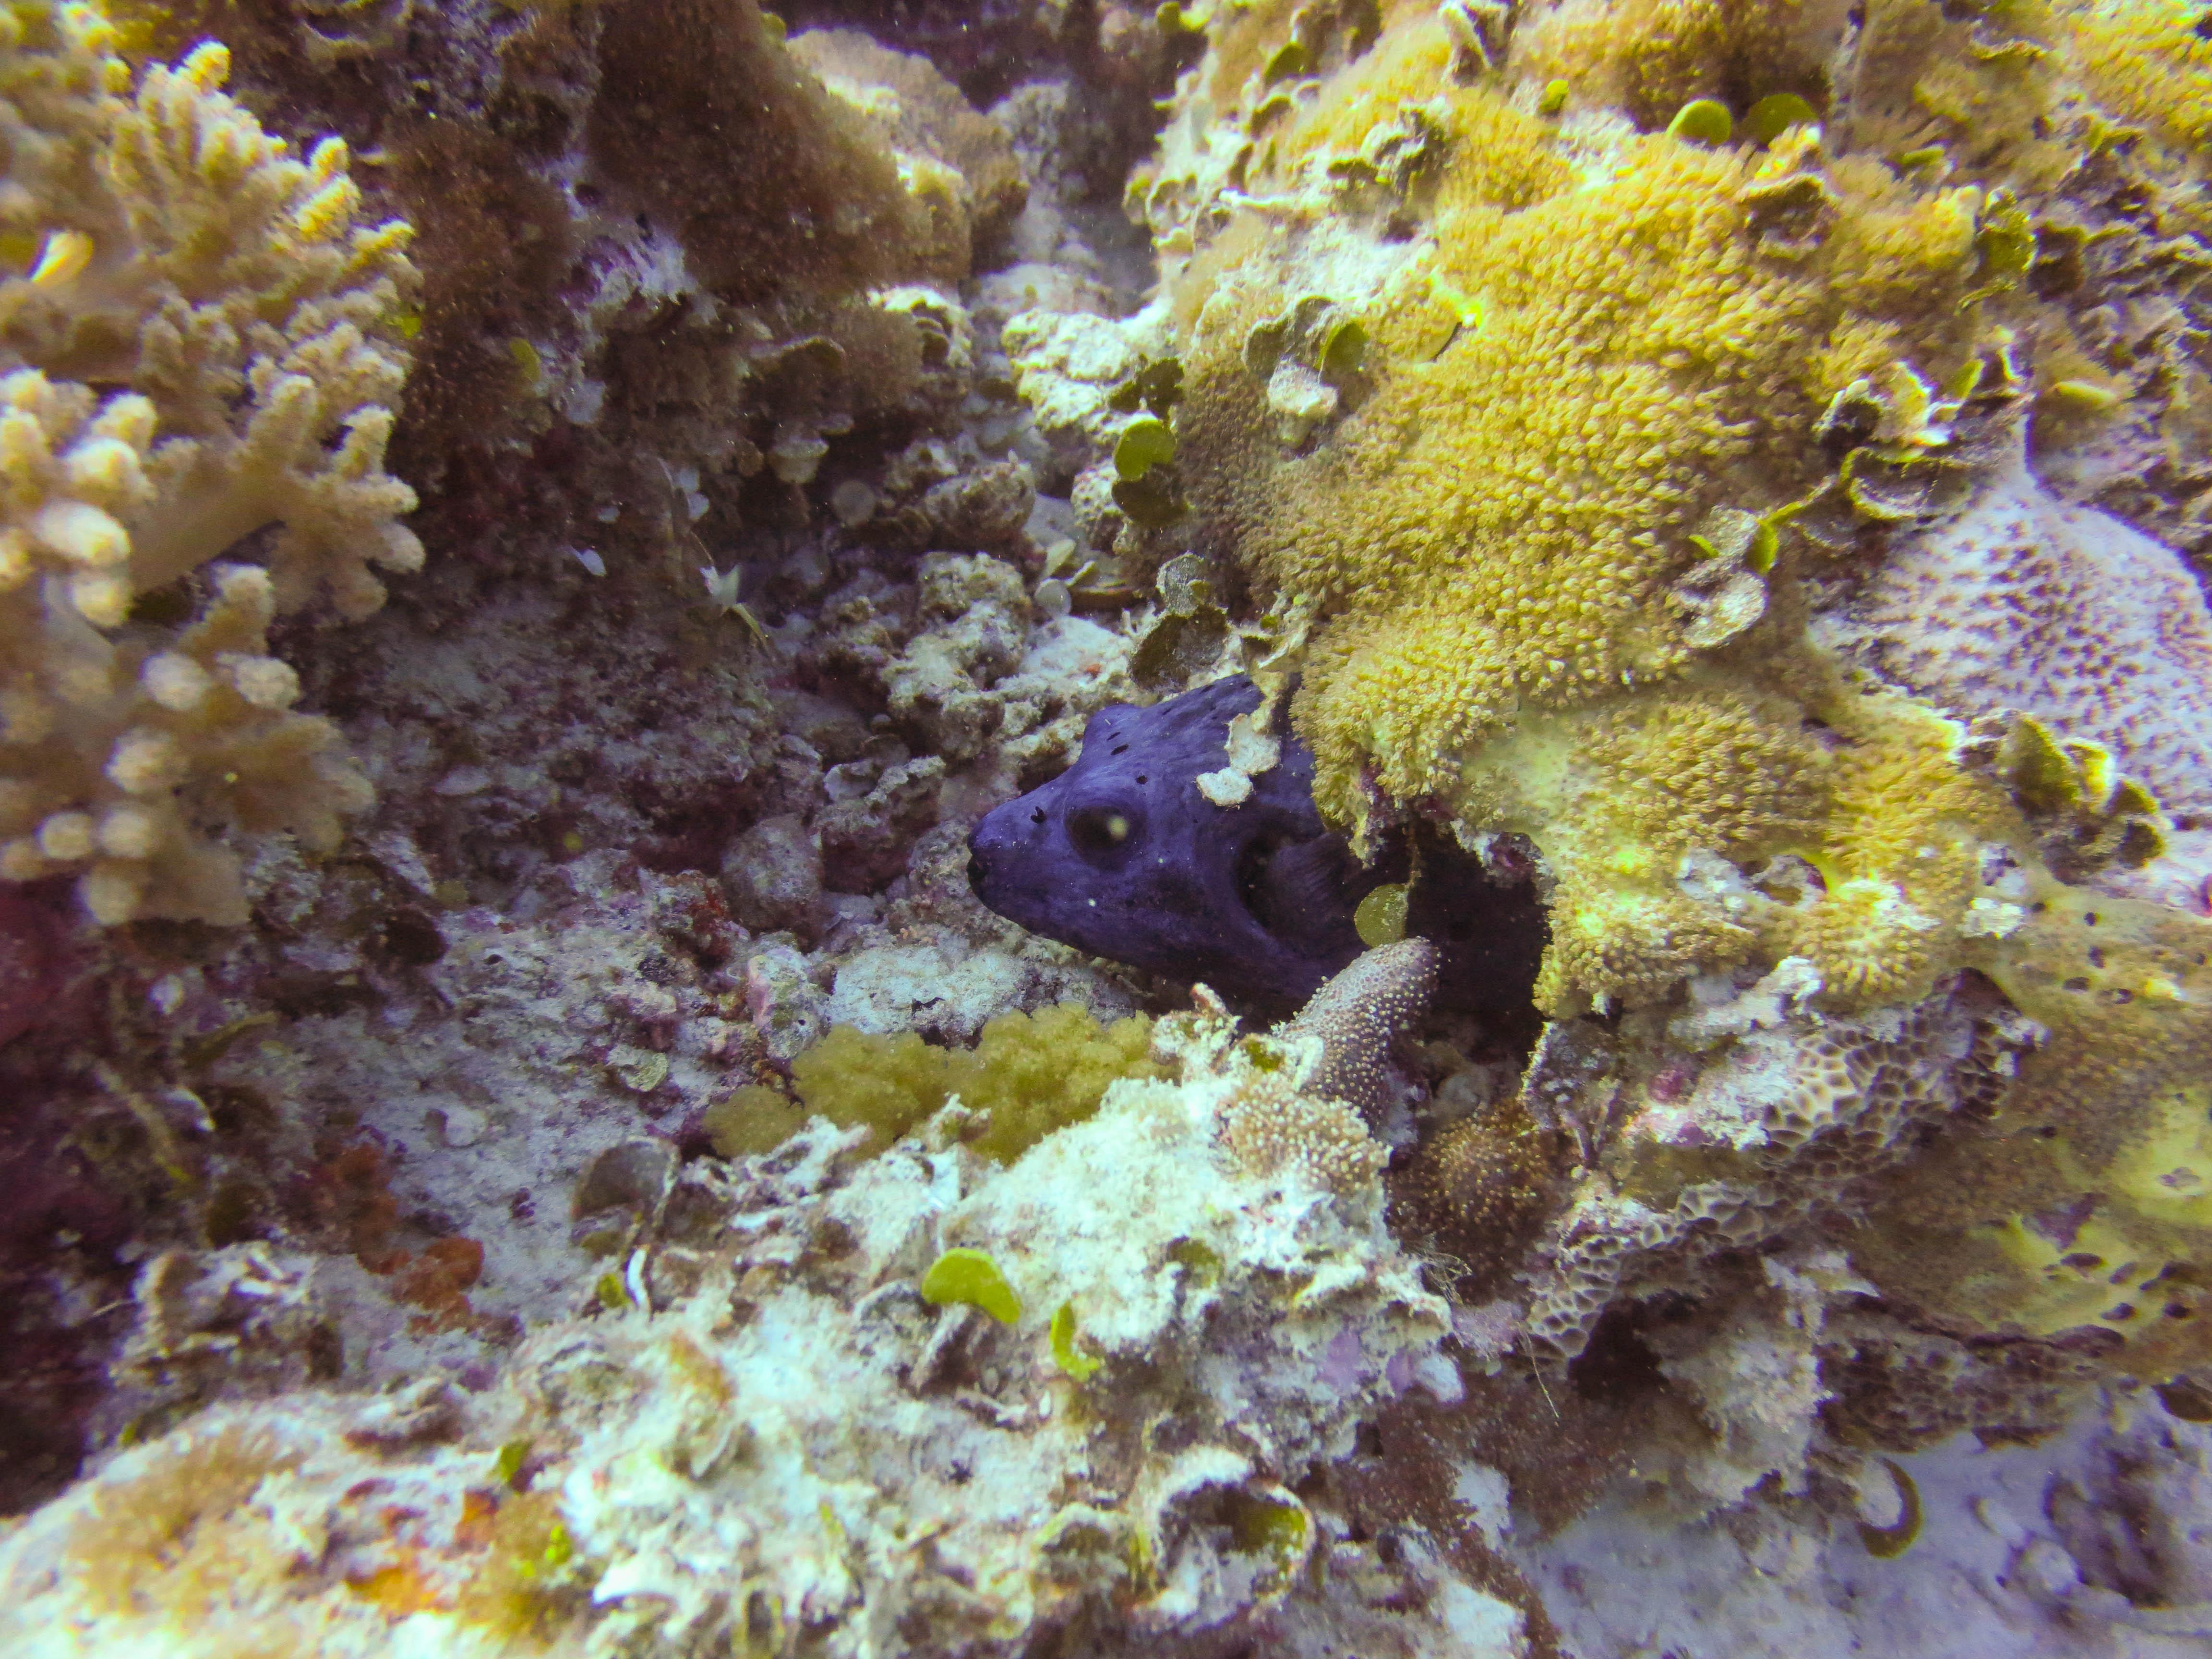Fish: (827, 521, 1568, 1066)
